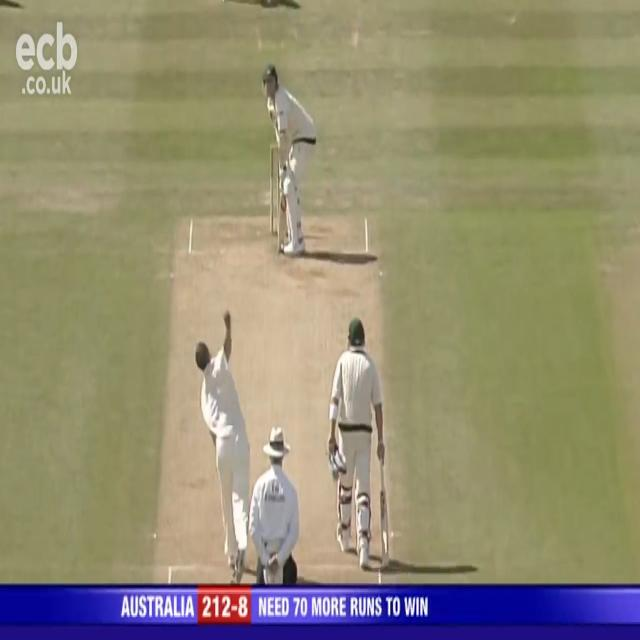ball: (223, 306, 230, 321)
